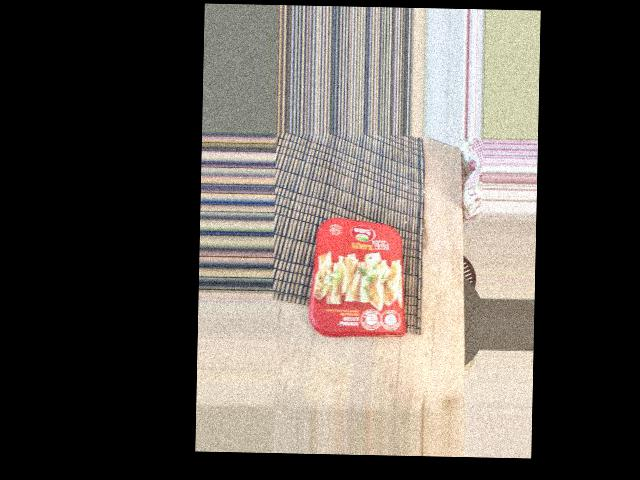cheese: (269, 176, 398, 268)
